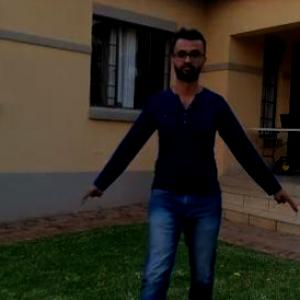land: (100, 48, 256, 299)
